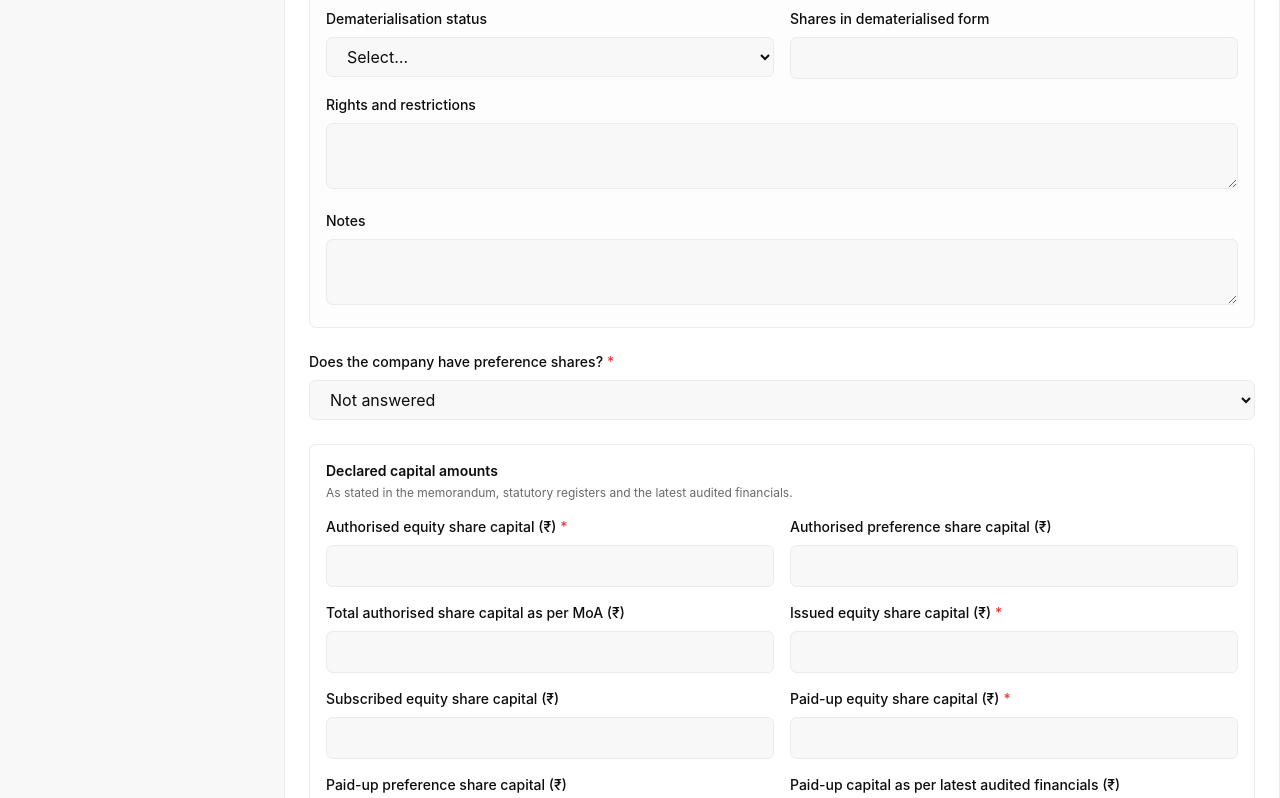
Test: Capital & Ownership workstream UI (C2 persistence) › shows preference classes only when preference shares are Yes or Not sure
(page scrolled)
Expected: the text "Add preference class" is not shown
Select "Yes" in the dropdown labelled "Does the company have preference shares?*" at (782, 400), box [309, 380, 1255, 420]
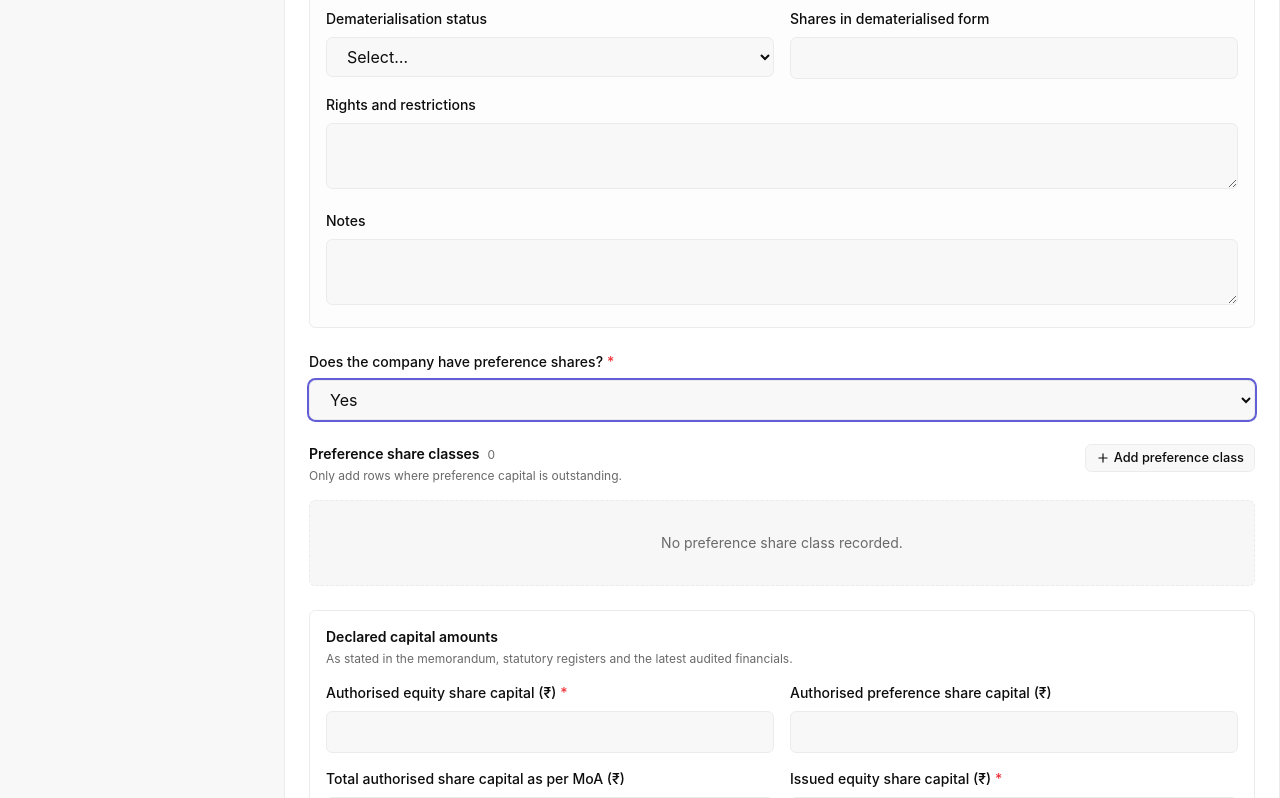
Expected: the button "Add preference class" is shown, [1085, 444, 1255, 472]
